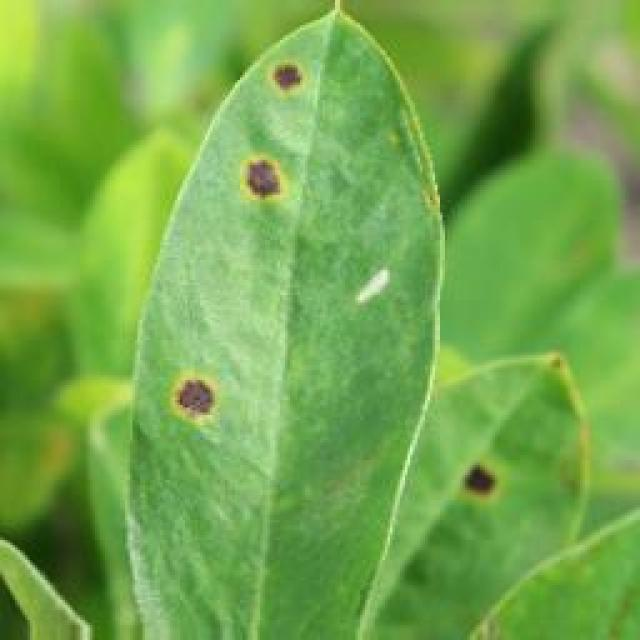Early_leaf_spot: (233, 139, 308, 246), (154, 365, 234, 463), (462, 438, 511, 514), (263, 49, 324, 109), (354, 248, 400, 326), (544, 344, 573, 400)
